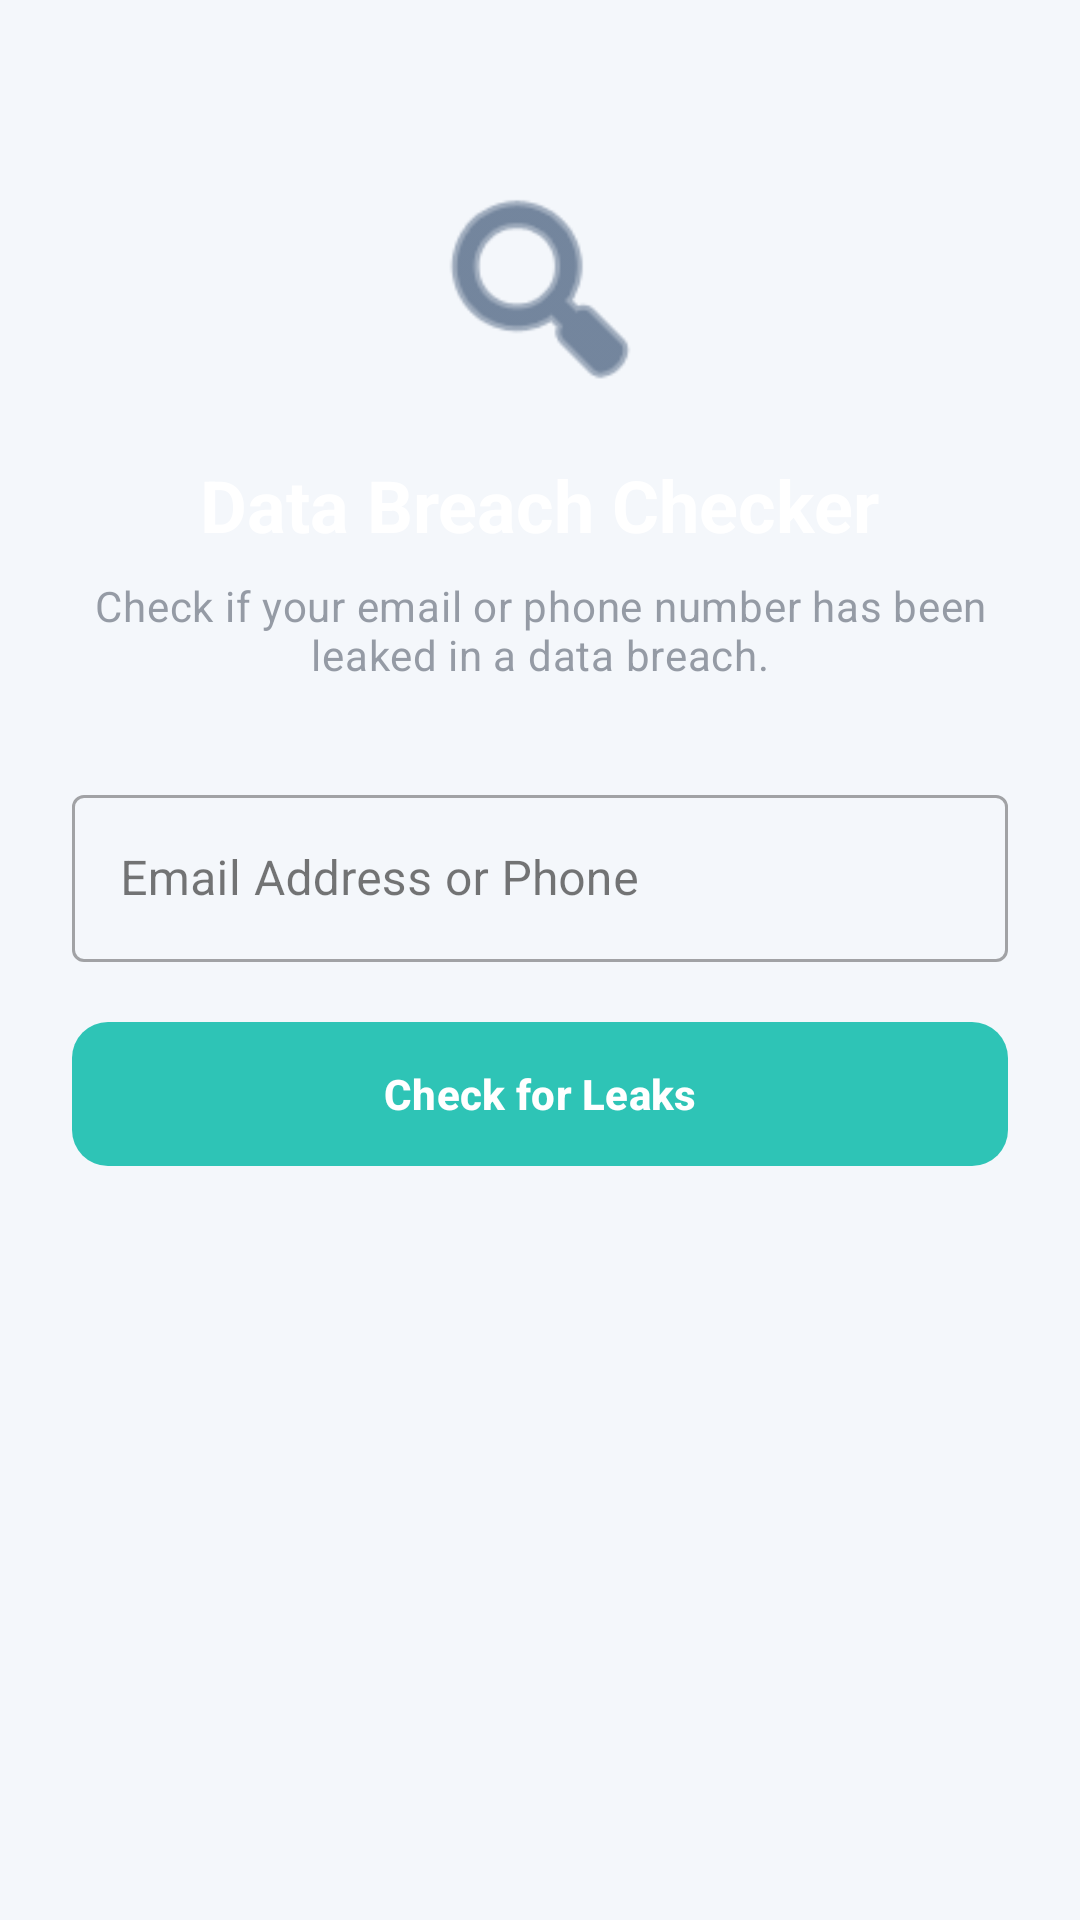

Point at icon controls on the screen. Image size 1080x1920, points as (x=x, y=y).
search: (x=540, y=289)
